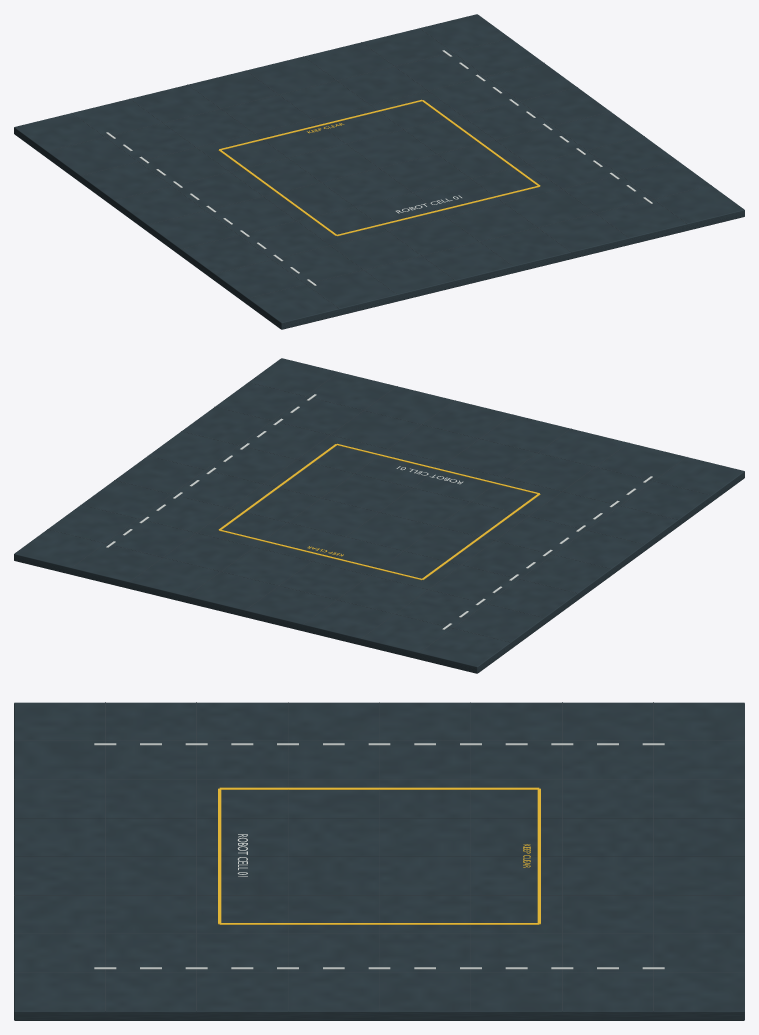
The model's file is floor.gltf.
3 renders of one model, top to bottom at view 1: azimuth 30°, elevation 25°; view 2: azimuth 150°, elevation 25°; view 3: azimuth 270°, elevation 25°, orthographic. The views are drawn at different scales.
Parts seen in each view (by area): view 1: floor; view 2: floor; view 3: floor.
Part boxes in pixels (<box>): floor: <box>14,14,744,329</box>; floor: <box>14,358,744,673</box>; floor: <box>14,702,744,1020</box>.
Size of the model in its own units: 16 by 0.261 by 16.
Materials: 4 (1 with a texture image).
